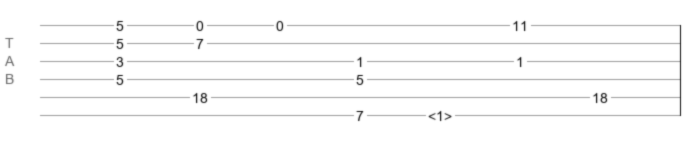0: (196, 18, 204, 28), (276, 18, 284, 28)
1: (356, 54, 364, 64), (516, 54, 524, 64)
11: (512, 18, 528, 28)
18: (192, 90, 208, 100), (592, 90, 608, 100)
3: (116, 54, 124, 64)
5: (116, 18, 124, 28), (116, 36, 124, 46), (116, 72, 124, 82), (356, 72, 364, 82)
7: (196, 36, 204, 46), (356, 108, 364, 118)
harmonic: (428, 108, 452, 118)
